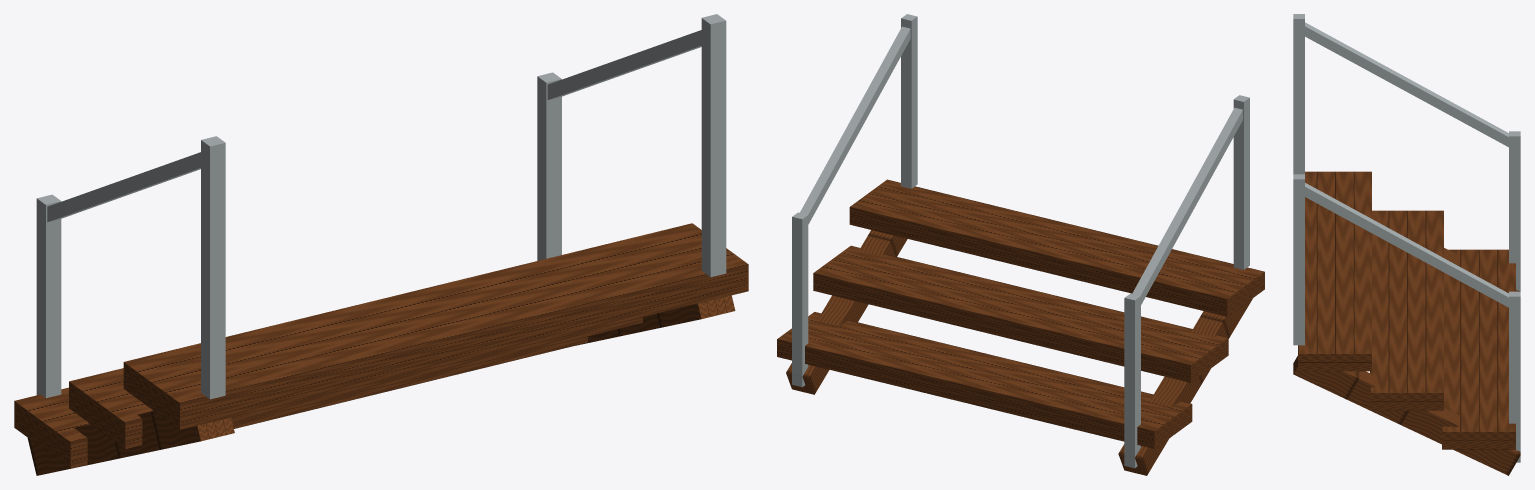
File: roadside-survival-stops-loading-bay-step-04759c3d__23524.glb
3 views of the same model, side by side, from view 1: azimuth 30°, elevation 25°; view 2: azimuth 150°, elevation 25°; view 3: azimuth 270°, elevation 25° (orthographic). The views are drawn at different scales.
Parts seen in each view (by area): view 1: loading-bay-step; view 2: loading-bay-step; view 3: loading-bay-step.
Part boxes in pixels (<box>): loading-bay-step: <box>14,14,748,475</box>; loading-bay-step: <box>777,14,1264,475</box>; loading-bay-step: <box>1293,14,1520,475</box>.
Bounding box in the file's own units: 2 × 1.5 × 1.06.
Materials: 2 (1 with a texture image).
